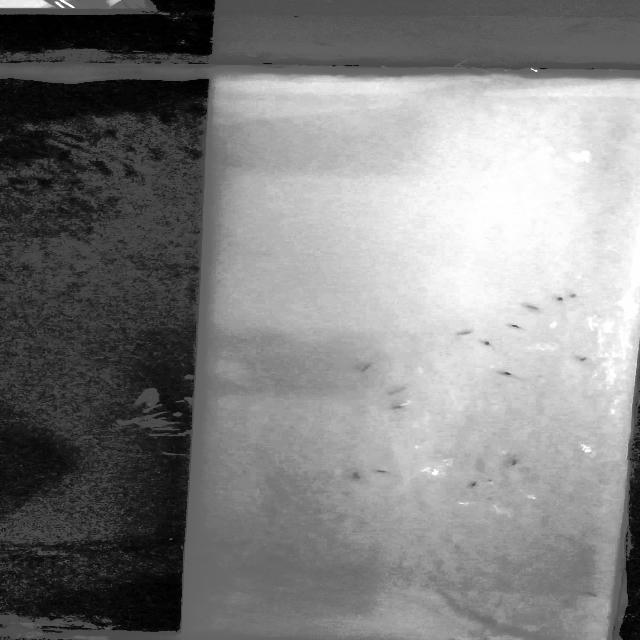shrimp: (351, 361, 380, 375), (478, 337, 502, 353), (520, 301, 546, 315), (388, 399, 417, 410), (502, 322, 530, 331), (383, 384, 405, 395), (570, 350, 590, 362), (456, 328, 482, 337), (562, 290, 583, 301), (465, 480, 484, 492), (509, 457, 526, 468), (582, 588, 600, 598), (497, 369, 517, 378), (349, 472, 367, 481), (372, 468, 391, 476), (553, 294, 565, 306)
